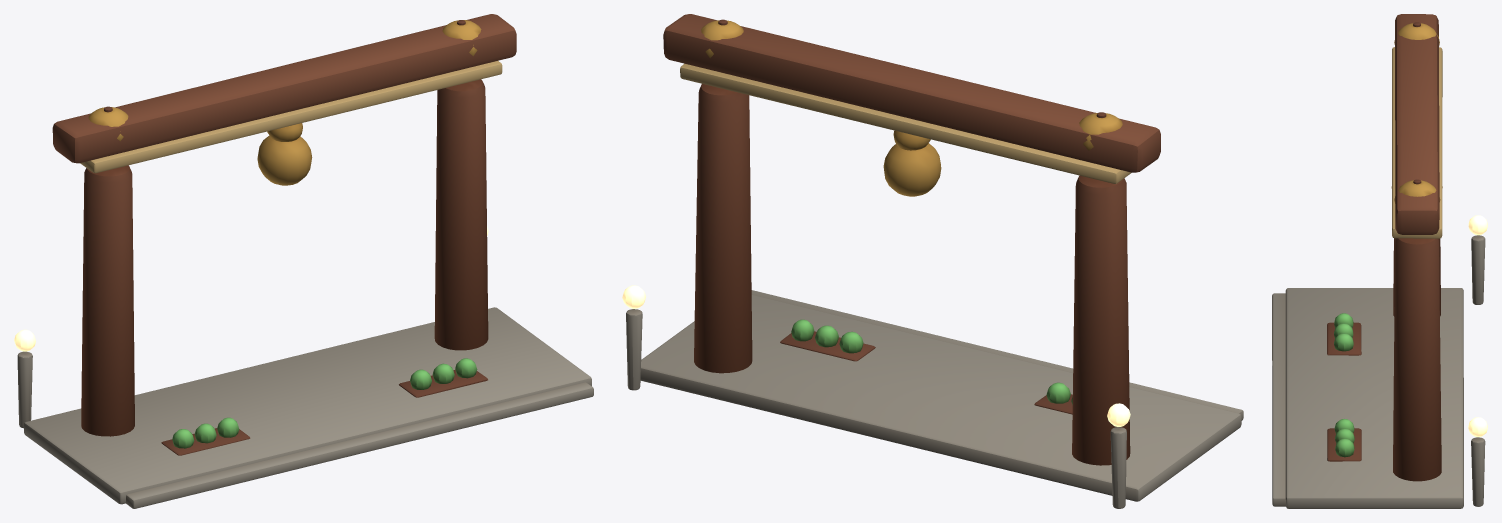
The picture shows the model from 3 angles, left to right: view 1: azimuth 30°, elevation 25°; view 2: azimuth 150°, elevation 25°; view 3: azimuth 270°, elevation 25°; orthographic projection. The views are drawn at different scales.
Parts seen in each view (by area): view 1: gate_01fdbd60; view 2: gate_01fdbd60; view 3: gate_01fdbd60.
Part boxes in pixels (x1,y1,x2,y2): gate_01fdbd60: (14,14,593,508); gate_01fdbd60: (622,14,1243,508); gate_01fdbd60: (1272,14,1487,508).
Bounding box in the file's own units: 5.9 × 3.95 × 2.55.
